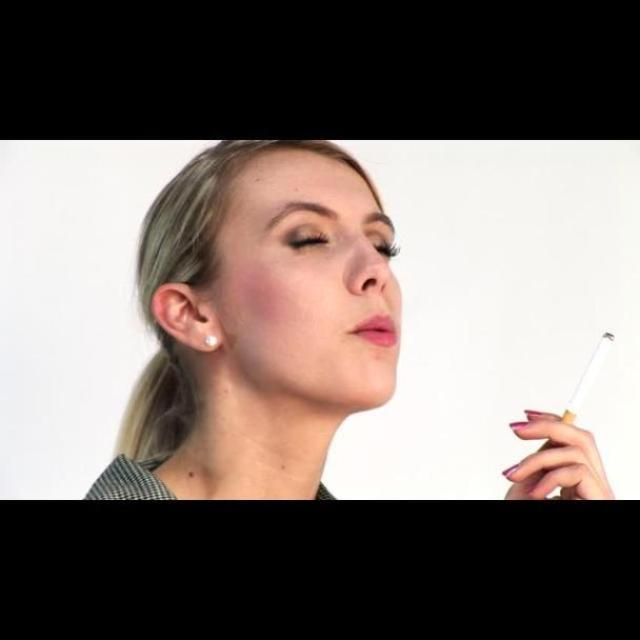rokok: (560, 327, 618, 418)
